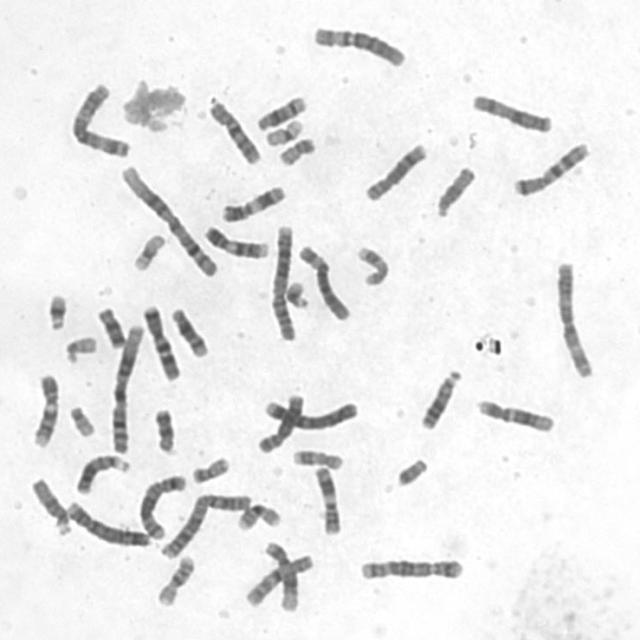A1: (115, 159, 221, 279), (106, 318, 147, 455)
A2: (156, 486, 254, 560), (265, 219, 300, 342)
A3: (550, 256, 596, 380), (66, 77, 132, 159)
B4: (61, 495, 153, 549), (258, 392, 361, 432)
B5: (133, 468, 189, 542), (355, 552, 466, 582)
C10: (240, 548, 316, 609), (203, 93, 264, 166)
C11: (216, 180, 288, 224), (310, 460, 344, 537)
C12: (471, 393, 558, 434), (259, 536, 300, 614)
C6: (307, 20, 409, 69), (294, 239, 354, 322)
C7: (508, 136, 592, 198), (137, 299, 182, 382)
C8: (360, 136, 430, 202), (253, 388, 307, 454)
C9: (199, 220, 271, 260), (26, 368, 61, 449)
D13: (415, 363, 464, 432), (70, 448, 132, 496)
D14: (166, 301, 212, 359), (252, 89, 309, 132)
D15: (25, 472, 74, 536), (430, 160, 479, 219)
E16: (152, 550, 196, 608), (233, 498, 283, 532)
E17: (352, 240, 392, 288), (288, 443, 346, 471)
E18: (92, 300, 127, 350), (148, 402, 178, 455)
F19: (127, 227, 168, 272), (261, 114, 305, 148)
F20: (274, 131, 318, 167), (186, 450, 232, 484)
G21: (42, 286, 70, 332), (282, 275, 310, 310)
G22: (60, 330, 98, 365), (64, 399, 98, 438)
X: (467, 88, 555, 134)
Y: (392, 452, 431, 487)
